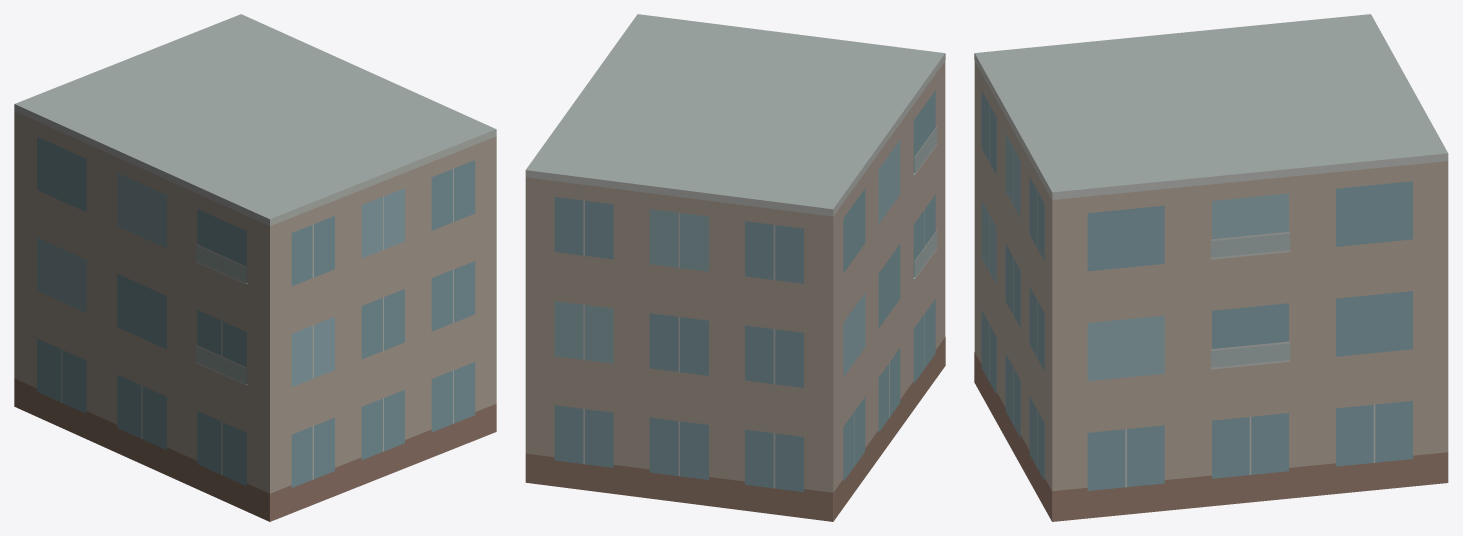
Rendered from survey-upis-32748719.glb.
3 renders of one model, left to right at view 1: azimuth 30°, elevation 25°; view 2: azimuth 150°, elevation 25°; view 3: azimuth 270°, elevation 25°, orthographic. The views are drawn at different scales.
Parts seen in each view (by area): view 1: survey-upis-32748719.tmp; view 2: survey-upis-32748719.tmp; view 3: survey-upis-32748719.tmp.
Boxes of the visible parts, x1=… form: survey-upis-32748719.tmp: x1=14, y1=14, x2=496, y2=521; survey-upis-32748719.tmp: x1=525, y1=14, x2=945, y2=521; survey-upis-32748719.tmp: x1=974, y1=14, x2=1448, y2=521.
Bounding box in the file's own units: 12.2 × 10.5 × 13.69.
